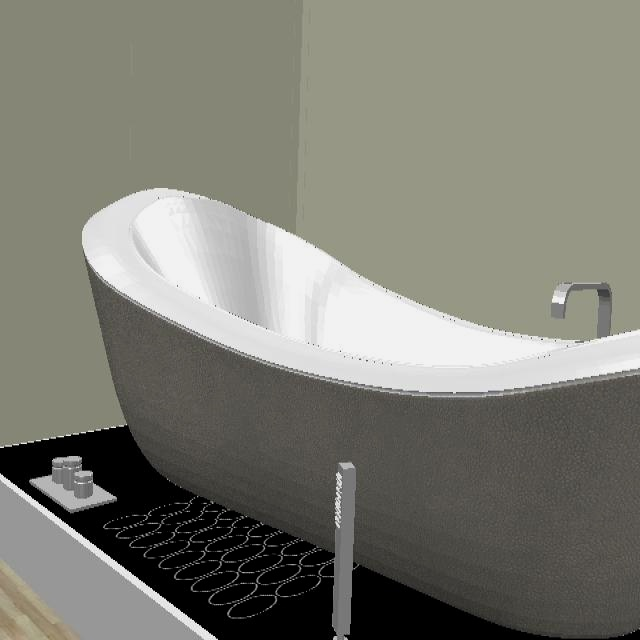bathtube: (80, 189, 640, 640)
